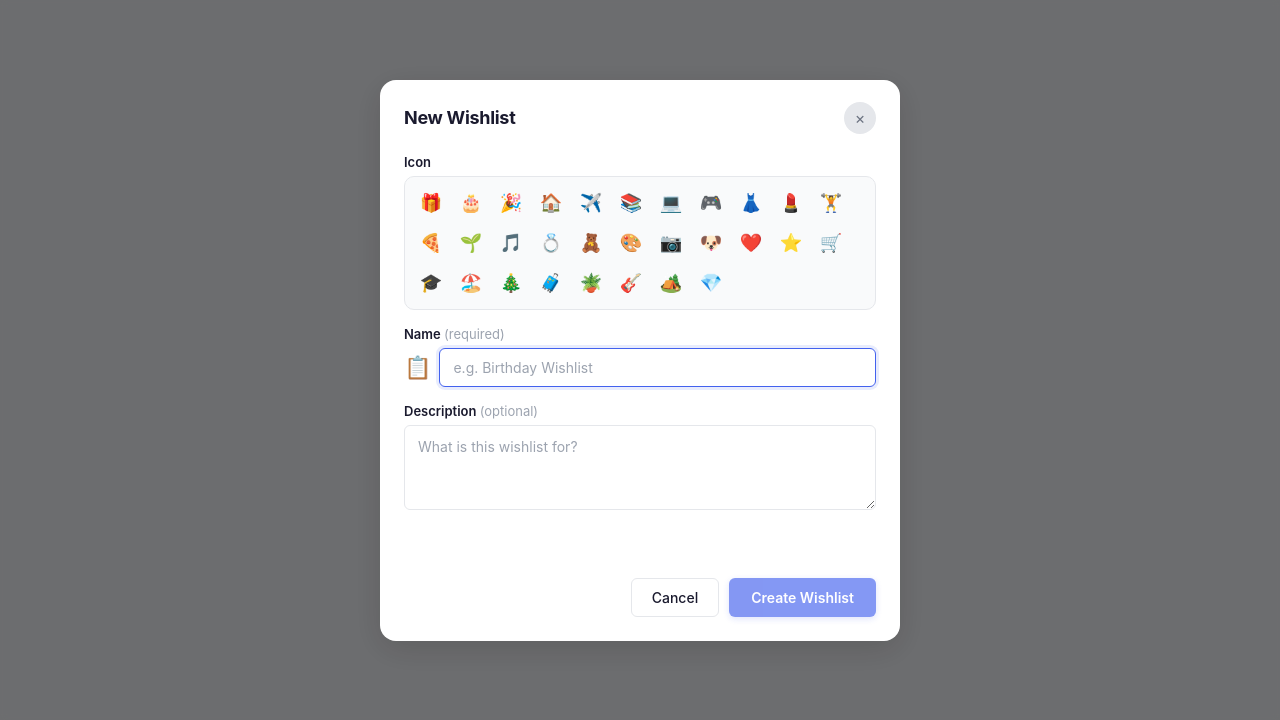
Test: NewWishlistModal – form submission › shows server error message on failure
Type "My List" into the field labelled "Name (required)" at (658, 367), box [440,348,876,386]
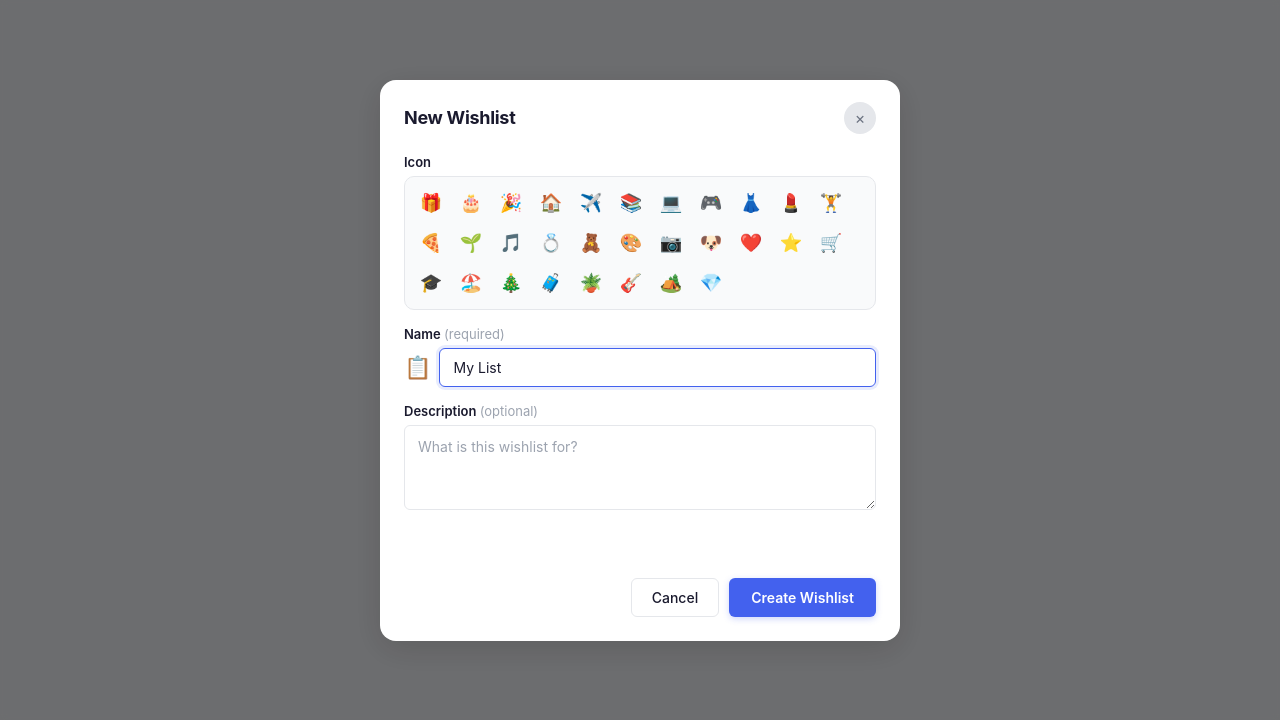
Click the button "Create Wishlist" at (803, 597), box [729,578,876,616]
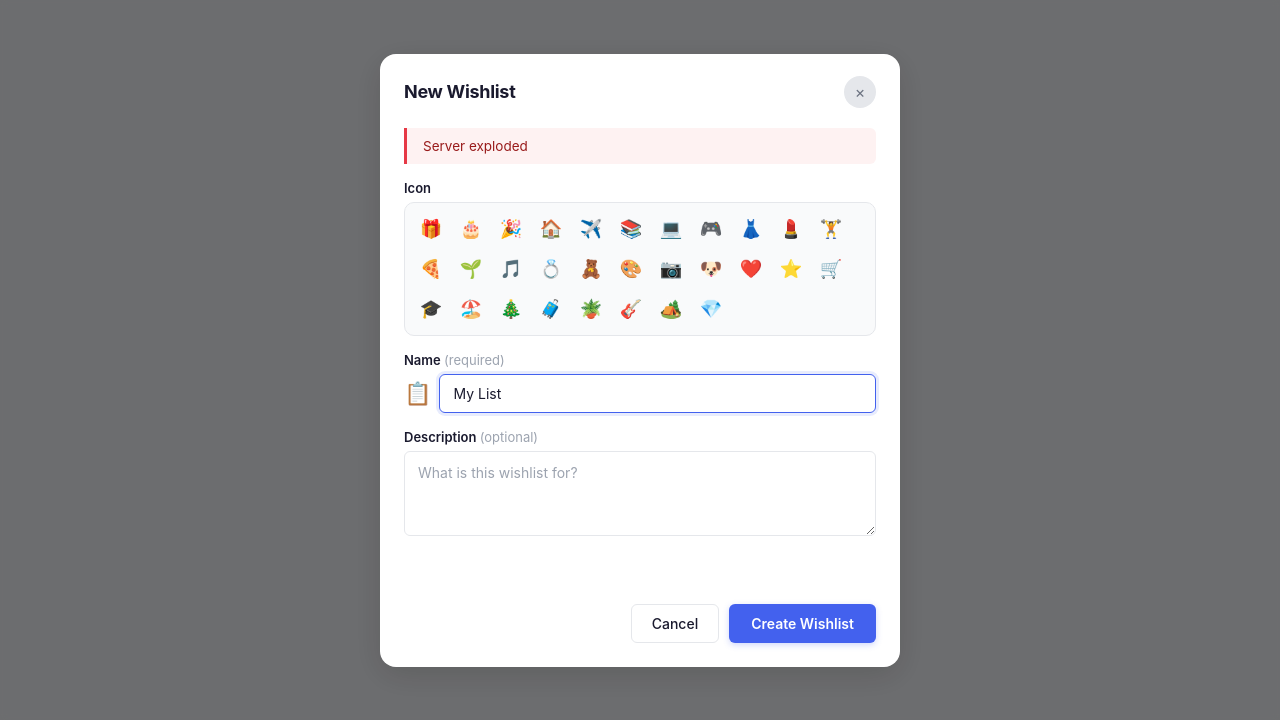
Expected: the text "Server exploded" is shown, [404,128,876,164]
